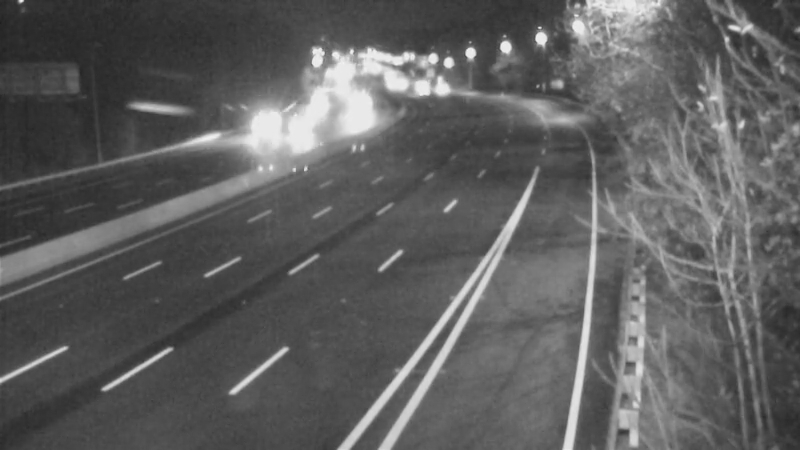vehicle: (238, 109, 288, 159), (335, 87, 385, 137), (292, 80, 342, 130)
